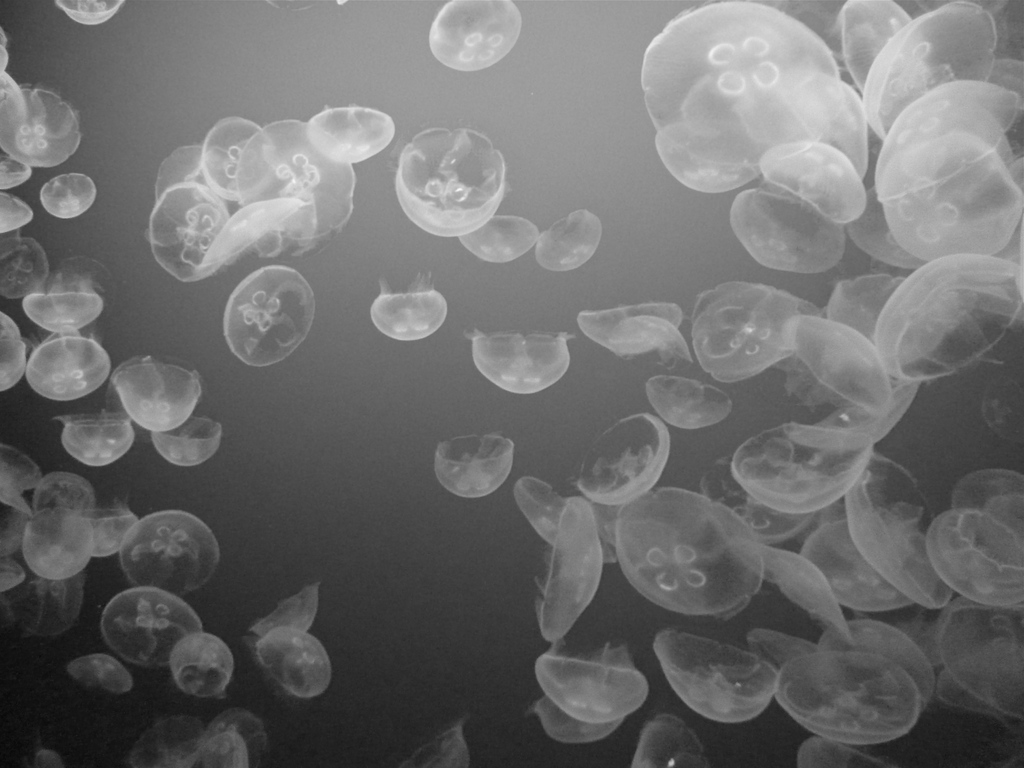Jellyfish: (0, 0, 1023, 767), (636, 5, 854, 204)
